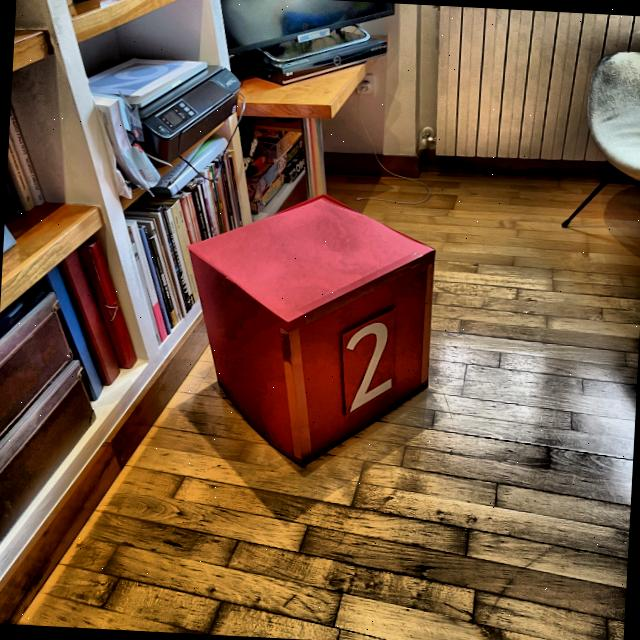red box: (174, 187, 438, 474)
two: (342, 318, 394, 417)
